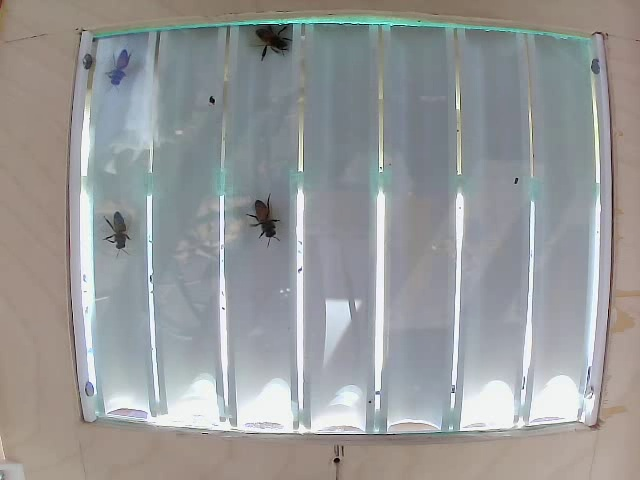bee: (238, 189, 296, 249), (256, 15, 301, 69), (102, 49, 153, 87), (110, 199, 141, 256)
